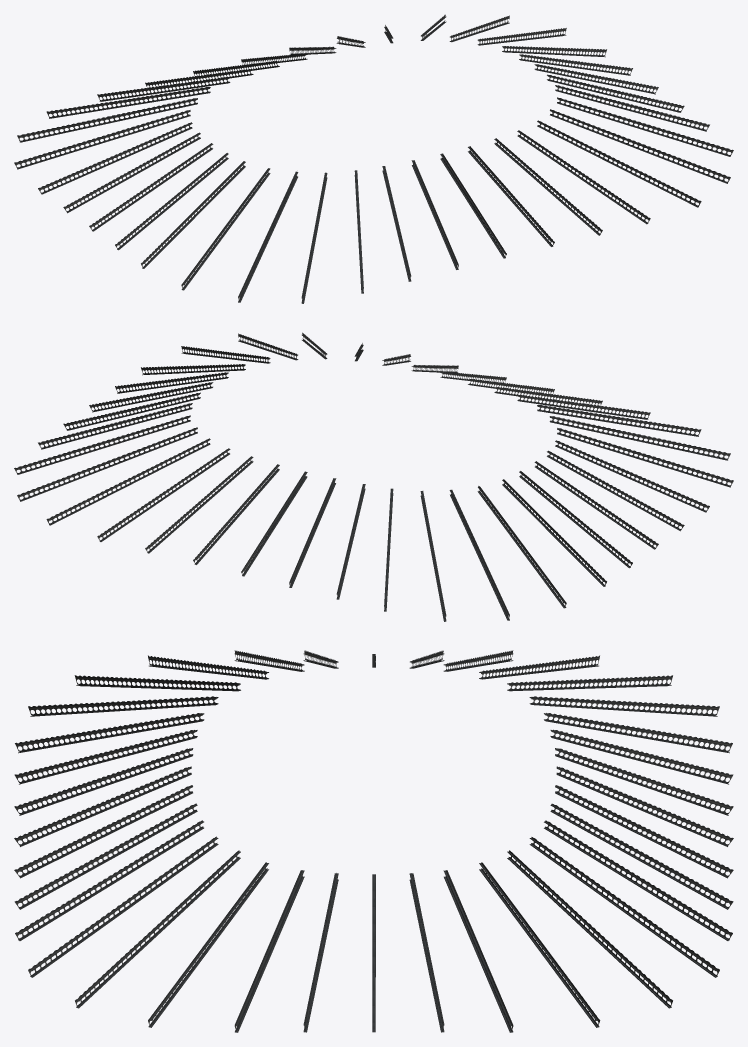
The model's file is ESTADIO_vigasCubierta.fbx.
The picture shows the model from 3 angles, top to bottom: view 1: azimuth 30°, elevation 25°; view 2: azimuth 150°, elevation 25°; view 3: azimuth 270°, elevation 25°; orthographic projection. The views are drawn at different scales.
Visible parts, largest first — view 1: ESTADIO_vigasCubierta; view 2: ESTADIO_vigasCubierta; view 3: ESTADIO_vigasCubierta.
Boxes of the visible parts, left/top/right/bottom form: ESTADIO_vigasCubierta: left=14, top=14, right=733, bottom=303; ESTADIO_vigasCubierta: left=14, top=332, right=733, bottom=621; ESTADIO_vigasCubierta: left=14, top=650, right=733, bottom=1032.
Size of the model in its own units: 21088 by 2111 by 17051.
